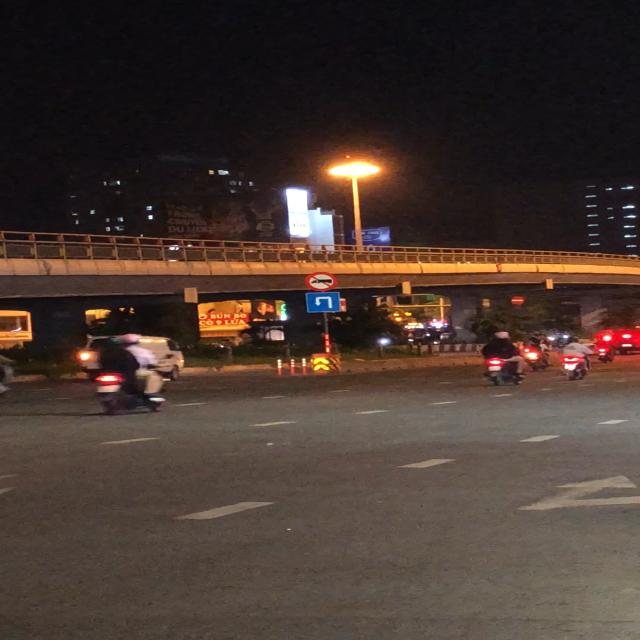Bien bao cam xe so-mi ro-mooc: (304, 271, 338, 292)
